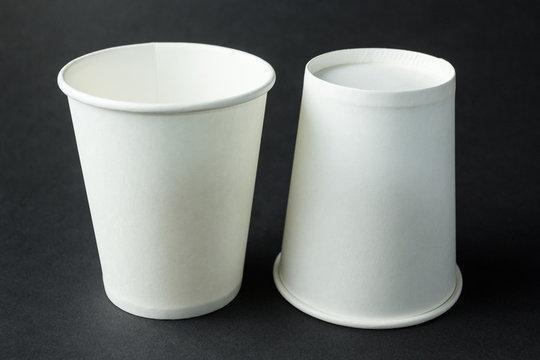cup-disposable: (55, 36, 277, 323), (271, 43, 463, 330)
